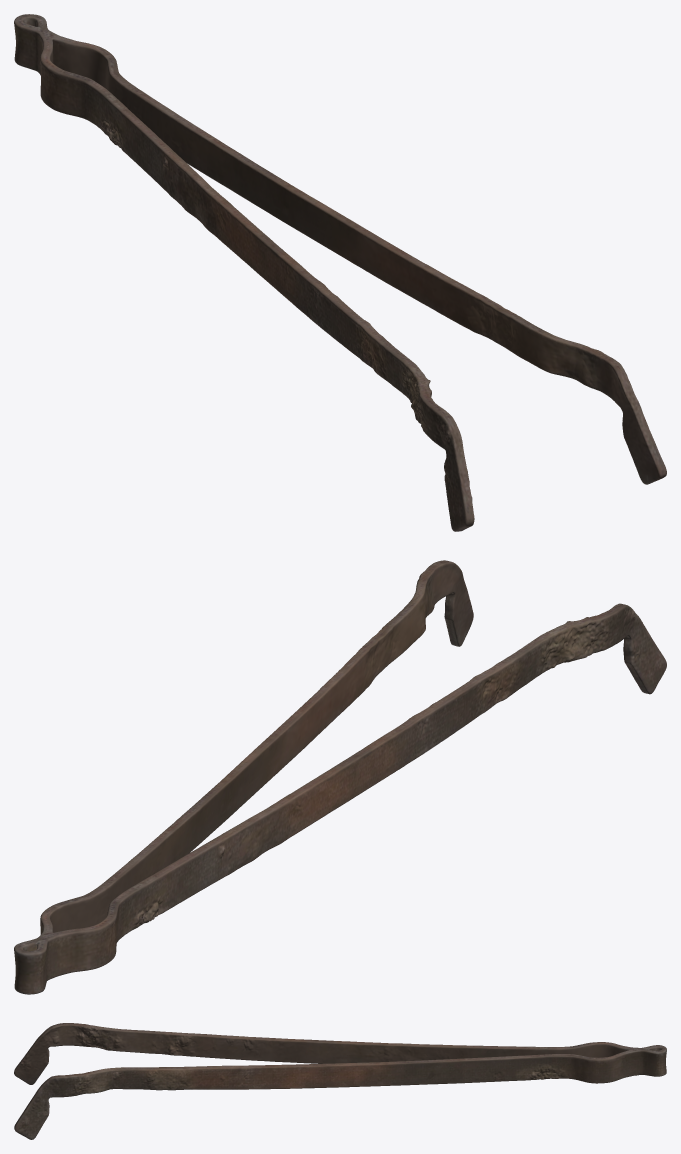
The model's file is masice.glb.
The picture shows the model from 3 angles, top to bottom: view 1: azimuth 30°, elevation 25°; view 2: azimuth 150°, elevation 25°; view 3: azimuth 270°, elevation 25°; orthographic projection. The views are drawn at different scales.
Bounding box in the file's own units: 0.4074 × 0.204 × 1.9.
1 material, 1 textured.
